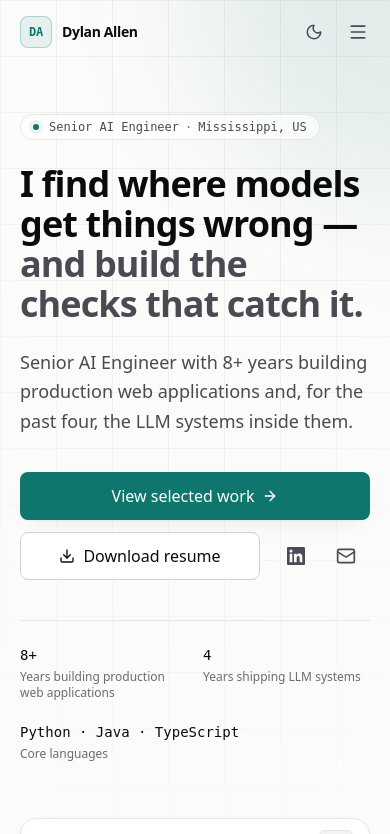
Test: mobile menu › closes after following one of its links
Click the button named "Open menu" at (358, 32), box x1=338 y1=12 x2=378 y2=52
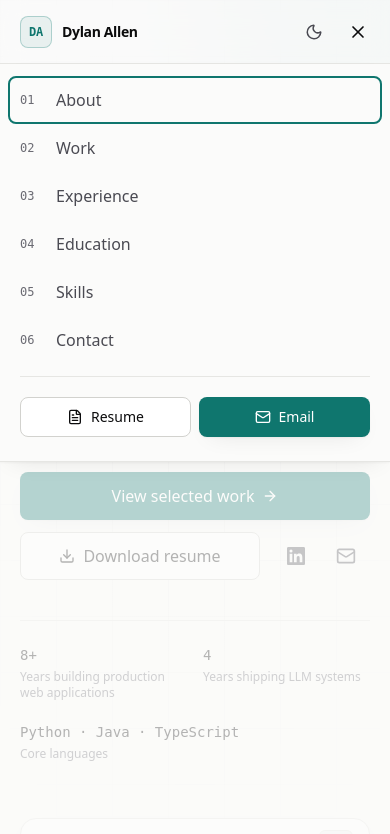
Click the link "06 Contact" at (67, 340), box x1=20 y1=329 x2=114 y2=351
(page scrolled)
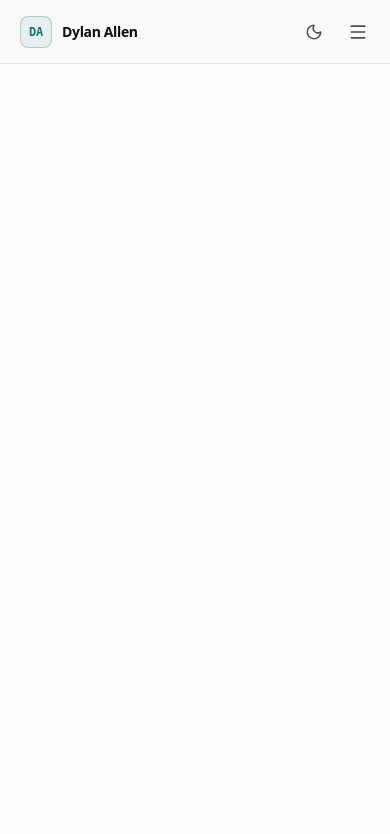
expect the button named "Open menu" is collapsed: met, box x1=338 y1=12 x2=378 y2=52
expect the navigation bar "Mobile" is gone: met
